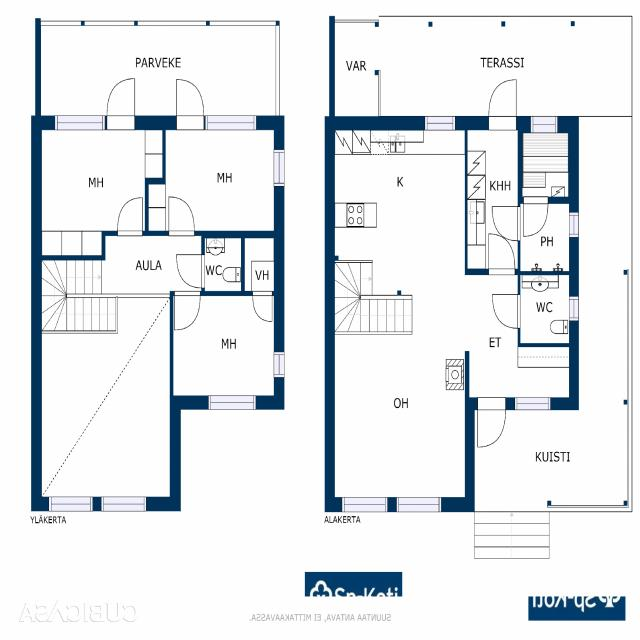door: (107, 78, 135, 130), (478, 397, 506, 448), (489, 79, 516, 130), (177, 79, 204, 130), (489, 234, 515, 275), (169, 197, 195, 236), (175, 291, 200, 330), (524, 196, 548, 236), (176, 255, 205, 288), (492, 294, 520, 328), (118, 197, 142, 236), (492, 207, 520, 240), (254, 292, 272, 322)
